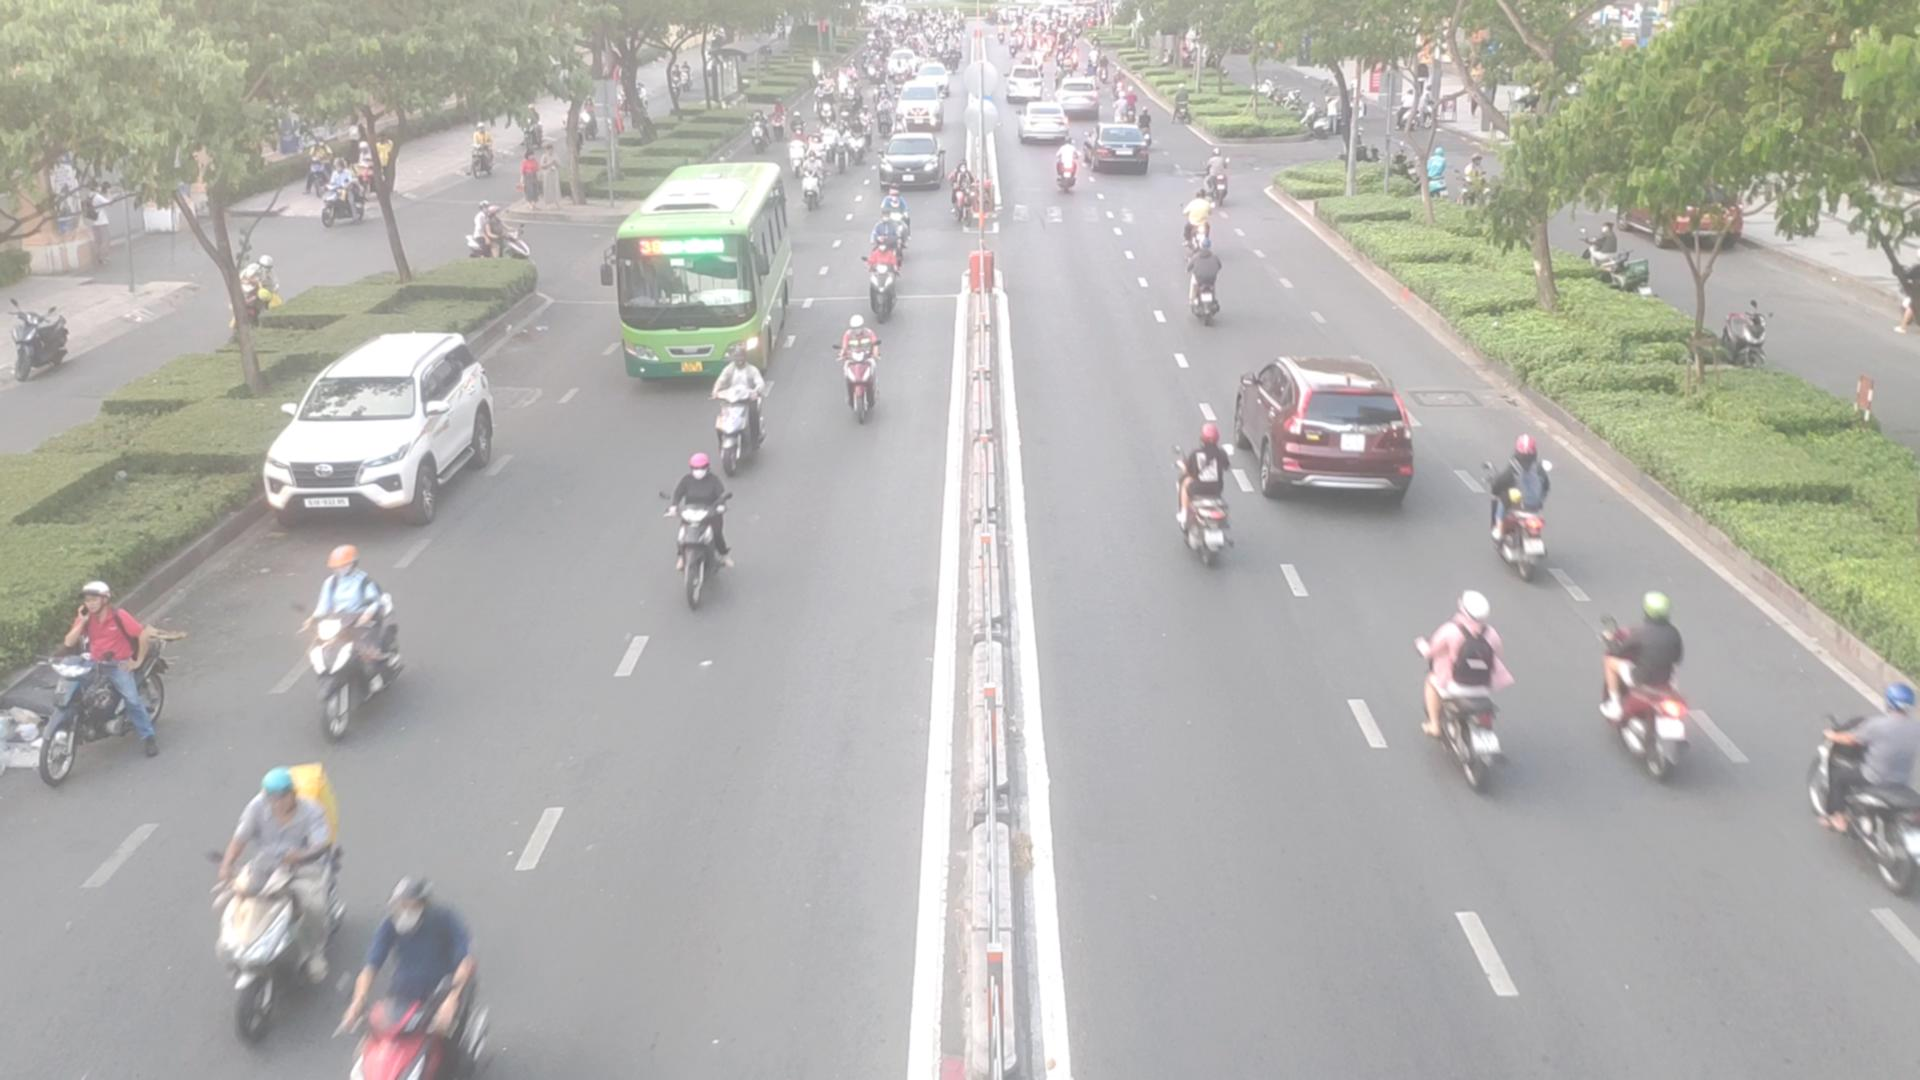bus: (608, 174, 804, 389)
car: (268, 331, 513, 525), (1205, 356, 1423, 502), (881, 136, 949, 193), (1087, 127, 1160, 174), (1019, 105, 1071, 145)
motorbike: (206, 769, 342, 1030), (330, 874, 487, 1075), (18, 585, 166, 775), (1811, 694, 1920, 890), (1606, 607, 1725, 777), (1418, 603, 1520, 786), (309, 564, 405, 725), (1171, 417, 1240, 567), (662, 456, 735, 597), (1482, 447, 1557, 560), (829, 320, 887, 425), (705, 357, 766, 456), (857, 240, 905, 318), (1178, 248, 1225, 324), (957, 173, 1007, 231), (868, 215, 909, 258), (1048, 148, 1083, 196), (1201, 158, 1240, 199)
